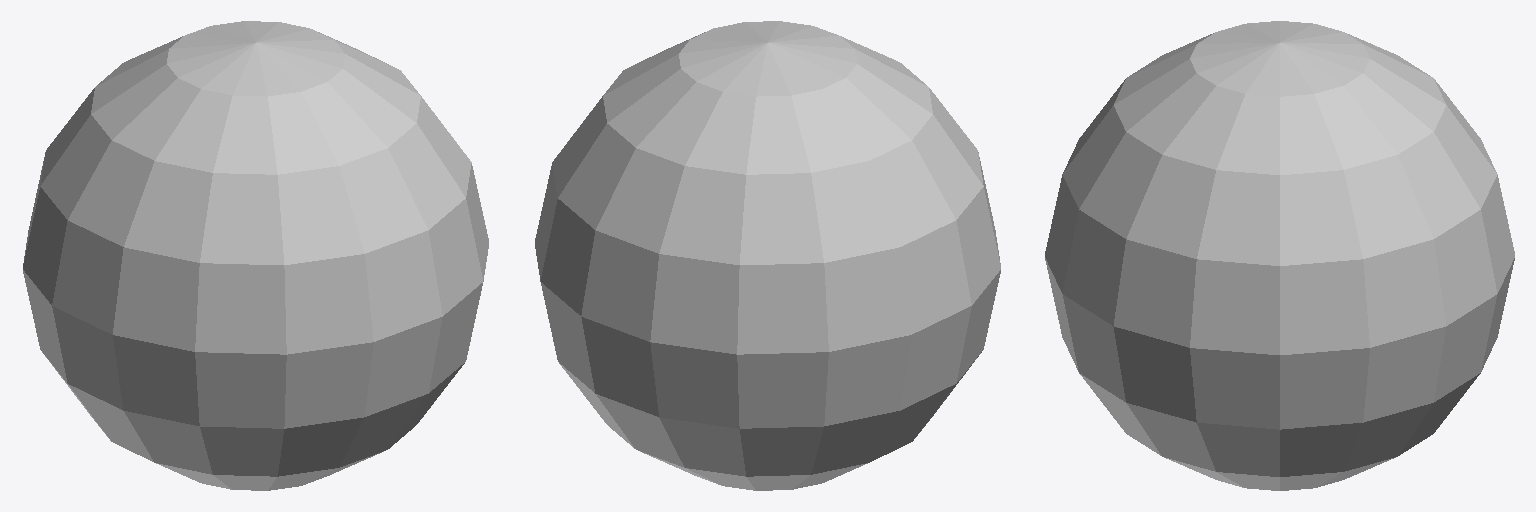
Rendered from bola3.obj.
The picture shows the model from 3 angles: view 1: azimuth 30°, elevation 25°; view 2: azimuth 150°, elevation 25°; view 3: azimuth 270°, elevation 25°; orthographic projection.
Parts seen in each view (by area): view 1: POOL_TABLE.027; view 2: POOL_TABLE.027; view 3: POOL_TABLE.027.
Boxes of the visible parts, box(x1,y1,x2,y2) form: POOL_TABLE.027: box(23, 21, 488, 490); POOL_TABLE.027: box(535, 21, 1000, 490); POOL_TABLE.027: box(1045, 21, 1514, 490).
Size of the model in its own units: 0.0585 by 0.0585 by 0.0585.